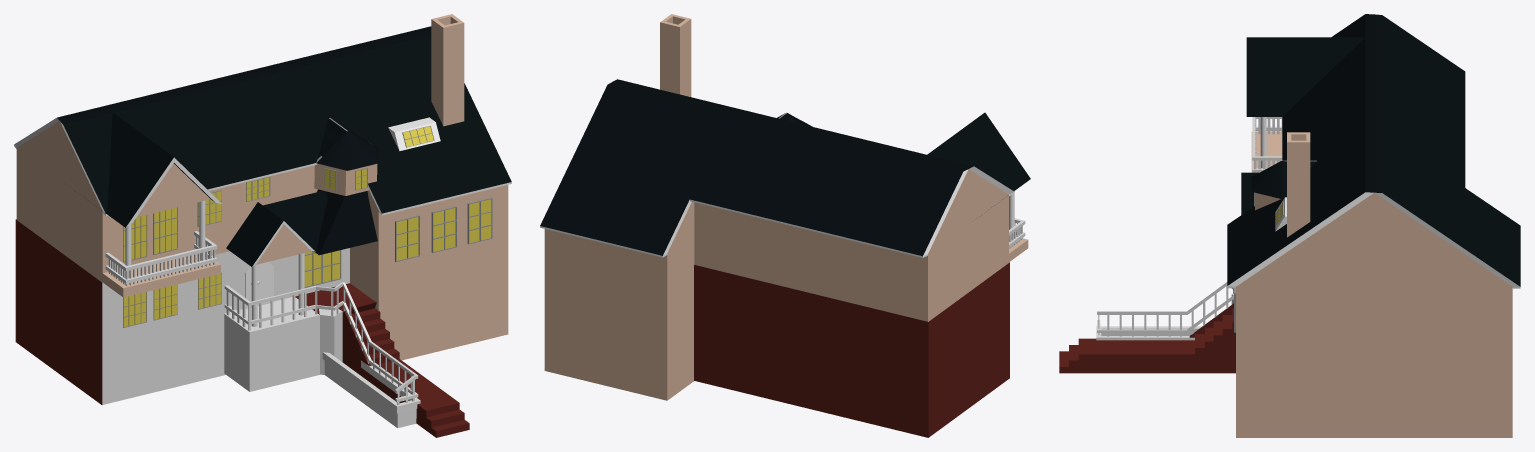
The picture shows the model from 3 angles, left to right: view 1: azimuth 30°, elevation 25°; view 2: azimuth 150°, elevation 25°; view 3: azimuth 270°, elevation 25°; orthographic projection. The views are drawn at different scales.
Parts seen in each view (by area): view 1: Prism001, Prism006, Plane002, Plane003, Box001, Prism002, Box002, Plane001, Cone001, Prism003, Pyramid001, Object002 (+8 smaller); view 2: Prism006, Prism001, Plane004, Plane003, Prism002, Plane001; view 3: Prism006, Prism001, Box002, Prism002, Plane001, Cone001, L-Ext001, Object002, Box003, Prism003.
Boxes of the visible parts, box(x1,y1,x2,y2) form: Prism001: box(14, 27, 502, 359); Prism006: box(63, 26, 511, 360); Plane002: box(102, 248, 349, 404); Plane003: box(16, 220, 102, 404); Box001: box(224, 297, 319, 391); Prism002: box(75, 112, 221, 227); Box002: box(295, 283, 469, 437); Plane001: box(431, 14, 464, 126); Cone001: box(314, 118, 378, 195); Prism003: box(226, 202, 315, 266); Pyramid001: box(313, 189, 377, 255); Object002: box(322, 352, 420, 428); Prism006: box(540, 79, 967, 399); Prism001: box(546, 80, 1014, 400); Plane004: box(694, 265, 928, 437); Plane003: box(928, 262, 1009, 437); Prism002: box(927, 112, 1030, 199); Plane001: box(660, 14, 691, 96); Prism006: box(1227, 17, 1520, 437); Prism001: box(1227, 14, 1520, 282); Box002: box(1059, 303, 1235, 373); Prism002: box(1246, 37, 1364, 116); Plane001: box(1287, 132, 1310, 237); Cone001: box(1251, 160, 1316, 210); L-Ext001: box(1097, 282, 1233, 332); Object002: box(1096, 326, 1201, 340); Box003: box(1251, 131, 1282, 172); Prism003: box(1241, 172, 1258, 214).
Size of the model in its own units: 60.92 by 45.55 by 66.29.
